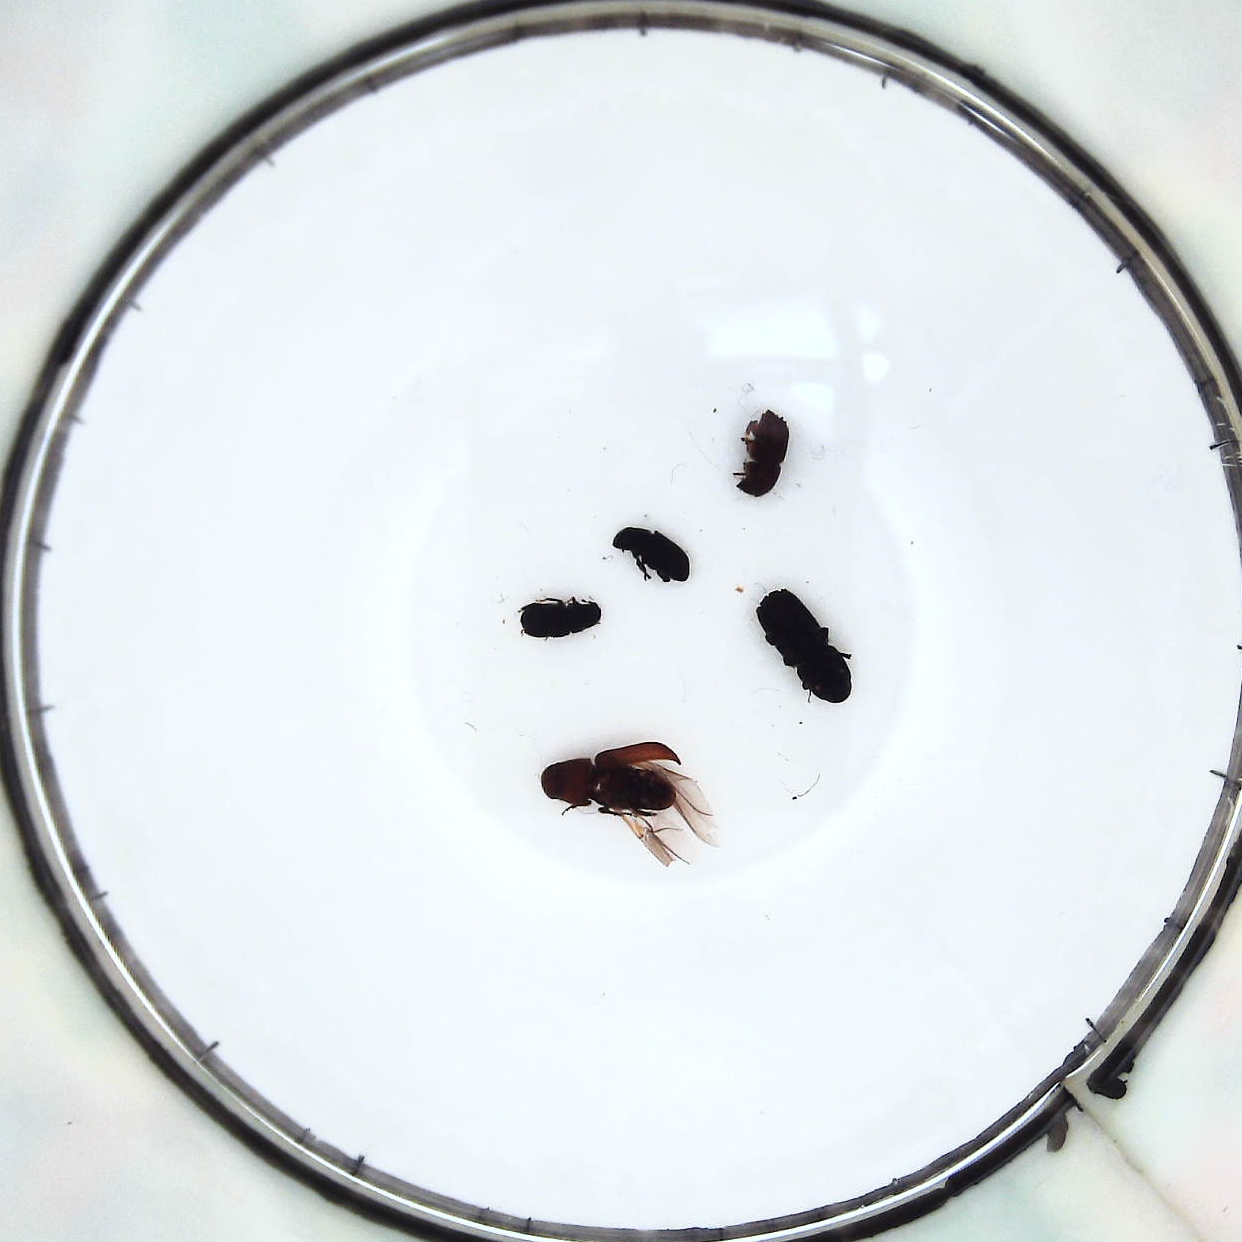Boerner: (757, 580, 851, 707)
Leconte: (550, 739, 705, 861)
Linnaeus: (736, 407, 790, 500)
armandi: (616, 527, 690, 587), (517, 590, 602, 641)
